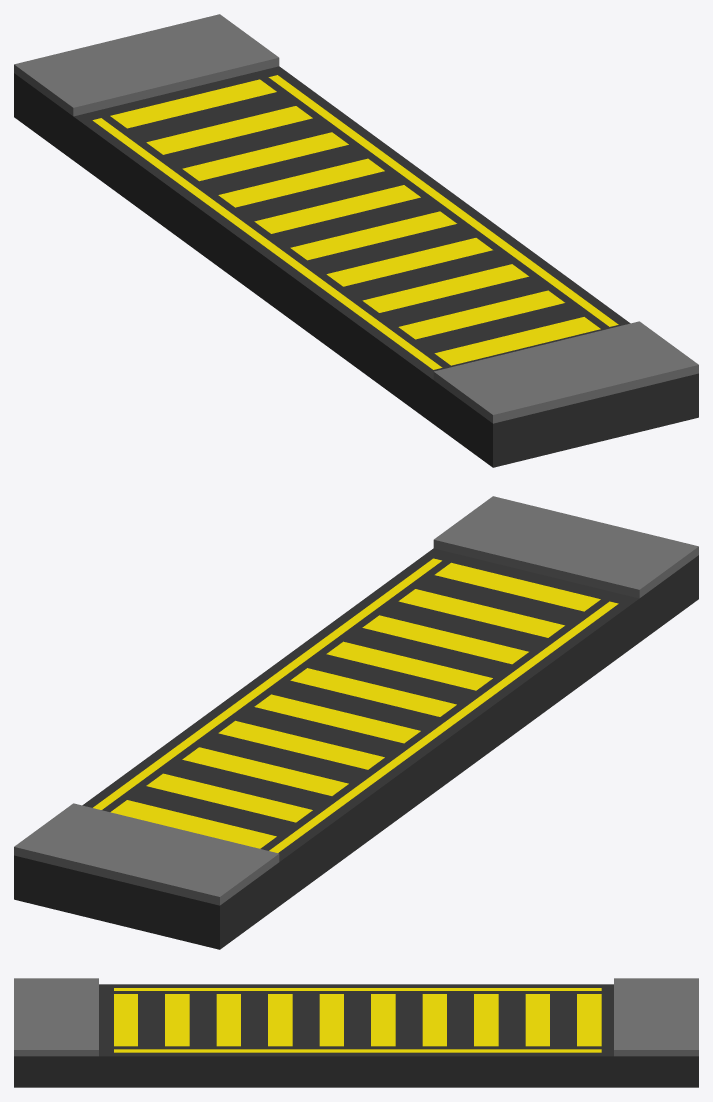
File: Cargo_Road_3_Seritli_Sidewalk.fbx
The picture shows the model from 3 angles, top to bottom: view 1: azimuth 30°, elevation 25°; view 2: azimuth 150°, elevation 25°; view 3: azimuth 270°, elevation 25°; orthographic projection. The views are drawn at different scales.
Parts seen in each view (by area): view 1: Cargo_Road__3_Seritli_Sidewalk; view 2: Cargo_Road__3_Seritli_Sidewalk; view 3: Cargo_Road__3_Seritli_Sidewalk.
Part boxes in pixels (x1,y1,x2,y2): Cargo_Road__3_Seritli_Sidewalk: (14, 14, 698, 467); Cargo_Road__3_Seritli_Sidewalk: (14, 496, 698, 949); Cargo_Road__3_Seritli_Sidewalk: (14, 978, 698, 1087).
Bounding box in the file's own units: 500 × 123 × 2015.
